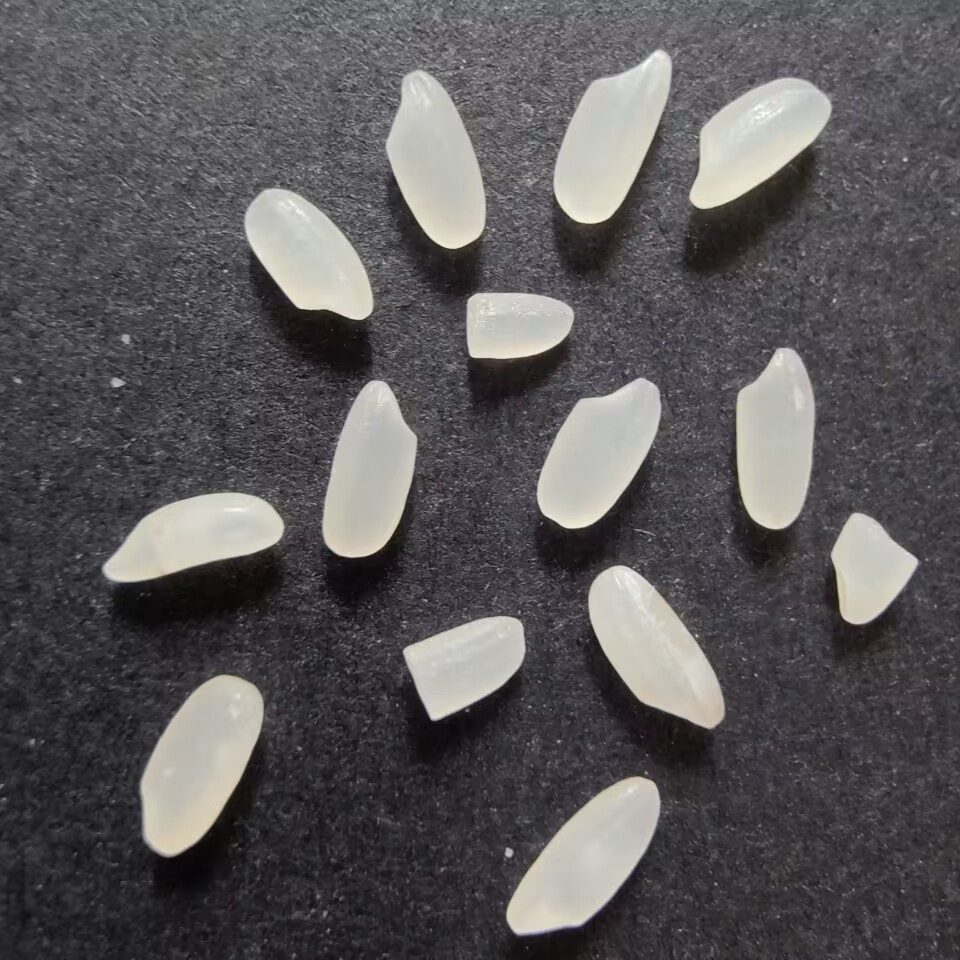broken: (395, 612, 529, 732), (823, 505, 925, 633), (455, 287, 578, 363)
rice: (499, 768, 665, 940), (132, 666, 268, 864), (586, 562, 727, 736), (547, 47, 676, 229), (677, 74, 839, 210), (530, 374, 667, 534), (381, 65, 496, 255), (311, 370, 422, 565), (94, 487, 290, 590), (240, 180, 379, 323), (729, 343, 825, 537)
